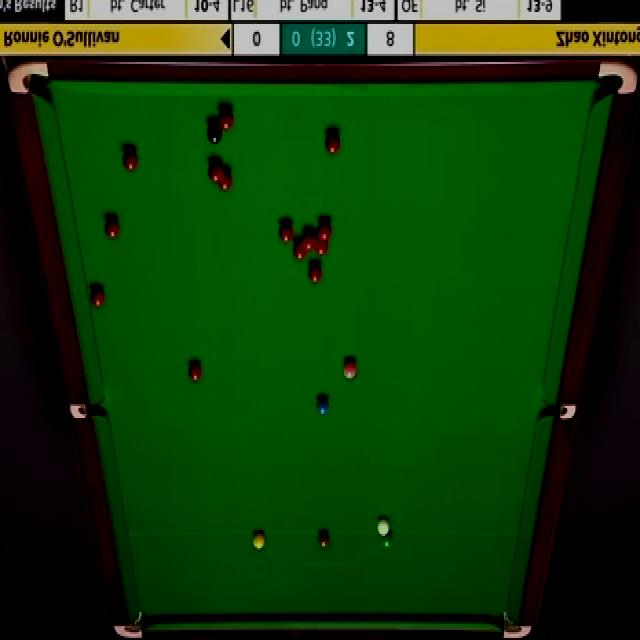black-ball: (206, 116, 224, 148)
blue-ball: (316, 393, 332, 418)
brown-ball: (317, 529, 331, 549)
green-ball: (380, 528, 394, 550)
pink-ball: (341, 356, 360, 384)
red-ball: (217, 103, 236, 130), (103, 214, 120, 242), (206, 158, 225, 183), (306, 260, 324, 286), (88, 284, 105, 310), (122, 147, 138, 173), (278, 220, 294, 244), (325, 130, 340, 155), (188, 361, 204, 384), (301, 228, 317, 251), (291, 240, 308, 261), (218, 170, 234, 192), (317, 220, 332, 242), (314, 238, 330, 256)
white-ball: (376, 513, 390, 539)
yellow-ball: (252, 530, 266, 550)
